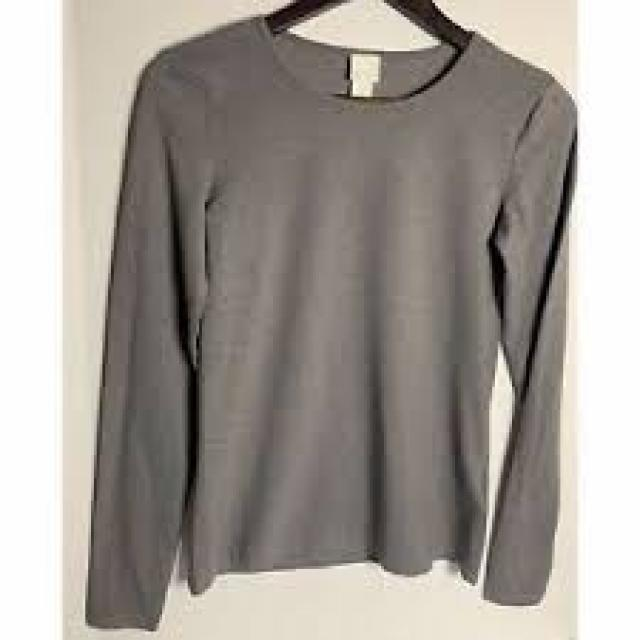plain: (87, 15, 577, 628)
